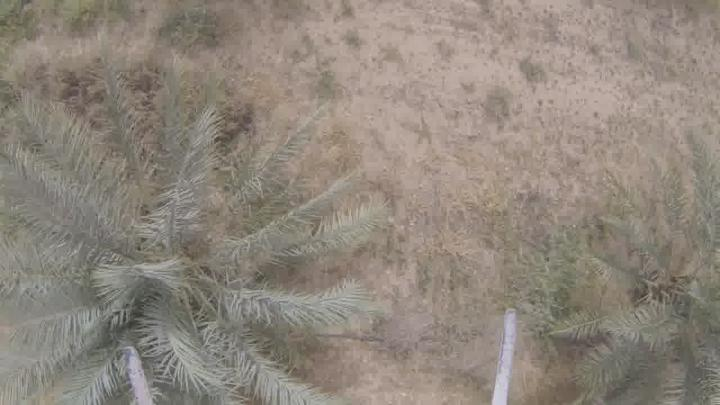Date-Palm-Crown: (20, 166, 284, 398), (616, 201, 720, 377)
